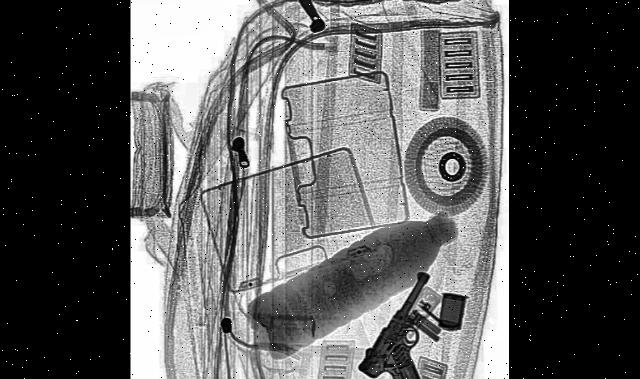Gun: (360, 255, 463, 379)
